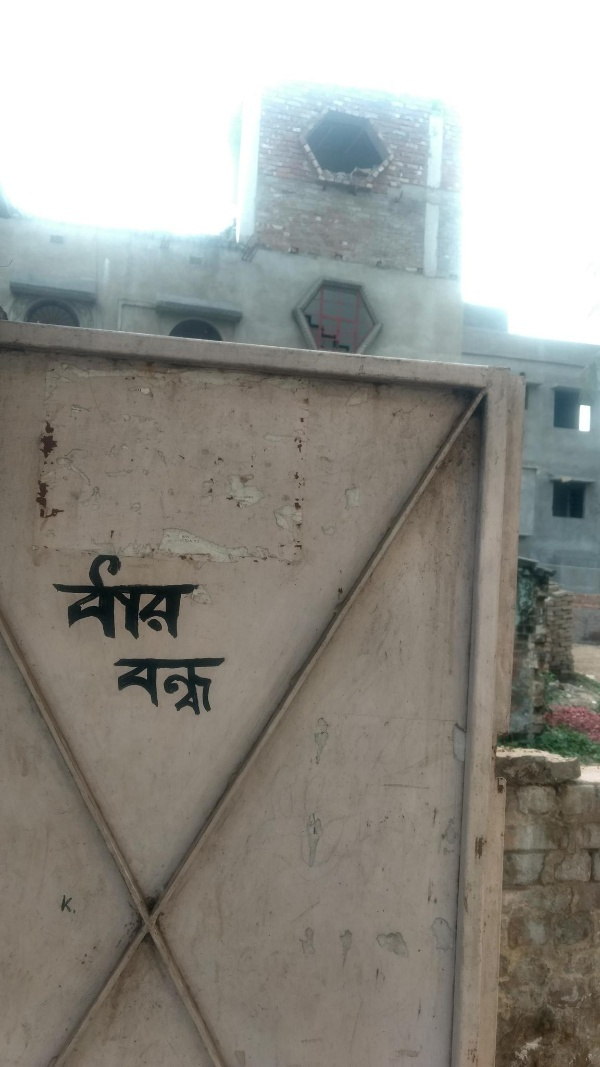text: (65, 554, 80, 641), (81, 554, 96, 641), (97, 554, 112, 641), (113, 554, 128, 641), (129, 554, 144, 641), (145, 554, 160, 641), (161, 554, 176, 641), (177, 554, 192, 641), (50, 554, 64, 641), (113, 656, 128, 716), (129, 656, 144, 716), (145, 656, 160, 716), (161, 656, 176, 716), (177, 656, 192, 716), (193, 656, 208, 716), (209, 656, 224, 716), (193, 554, 202, 641), (225, 656, 227, 716)
